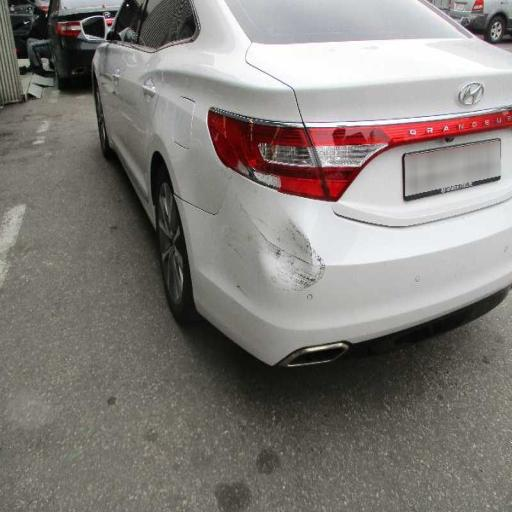scratch: (198, 160, 342, 314)
